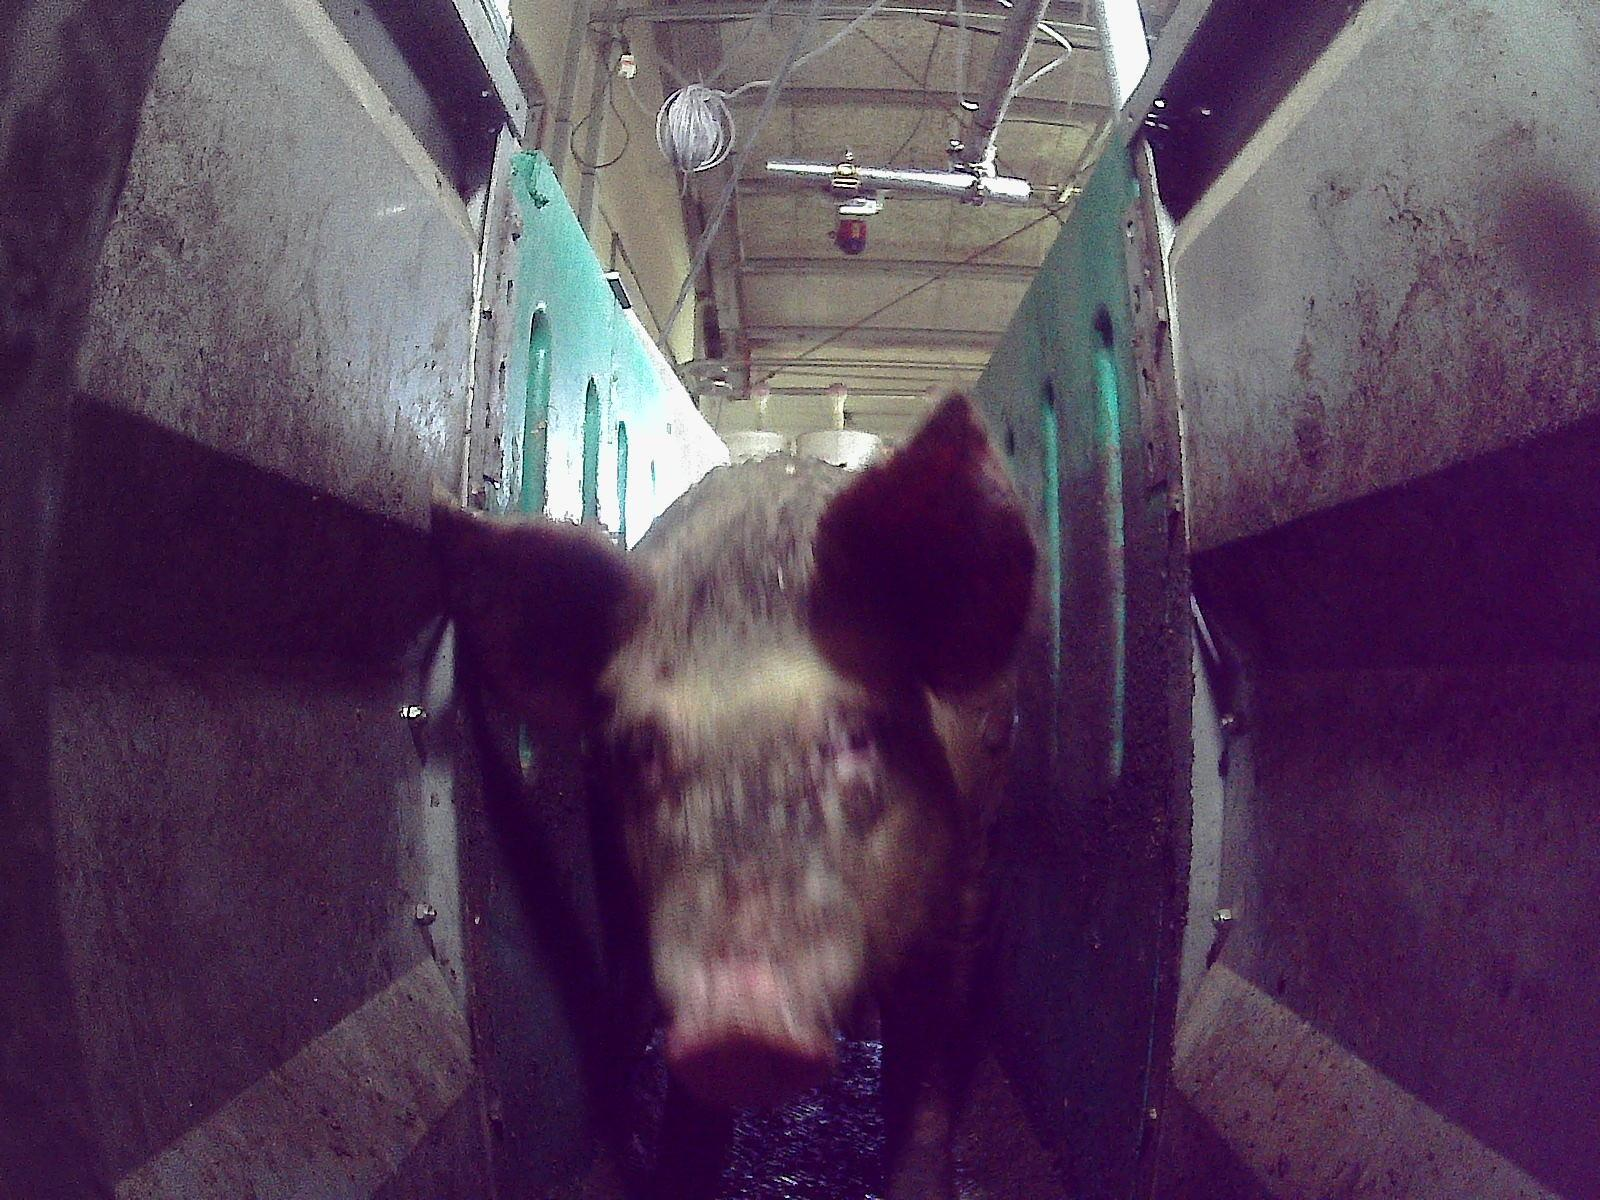Face: (600, 503, 965, 1107)
